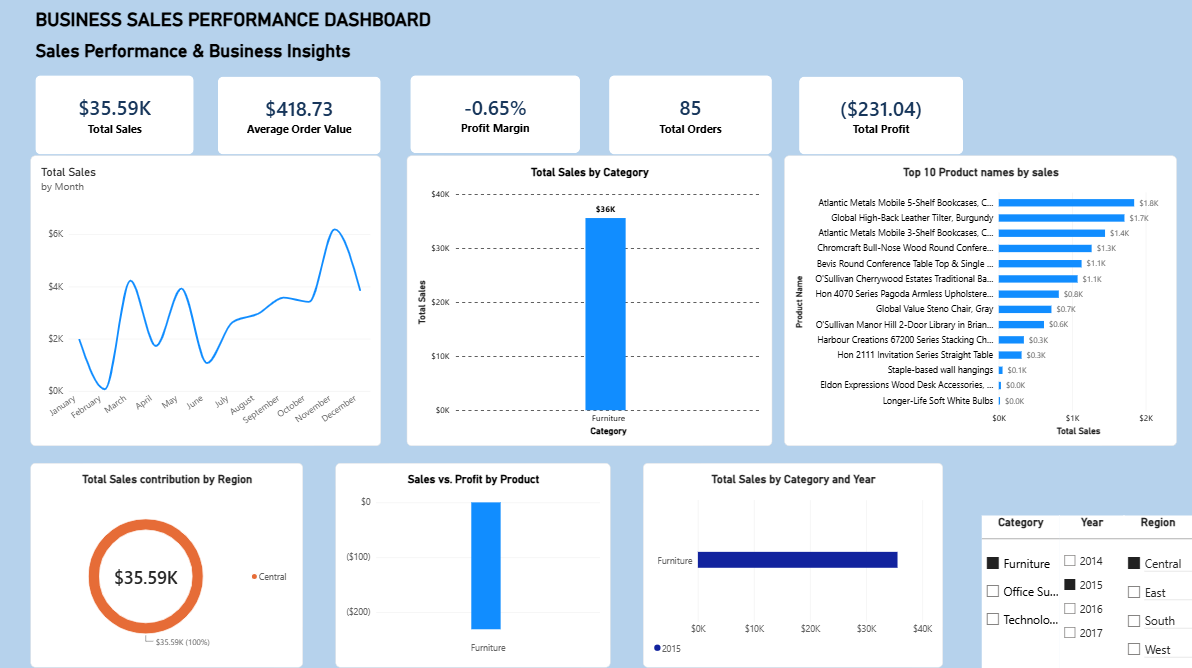

The dashboard page shown, as its layout file describes it:
{"tool":"powerbi","page":{"name":"Page 1","canvas":[1920,1080],"ordinal":0},"visuals":[{"type":"textbox","title":"BUSINESS SALES PERFORMANCE DASHBOARD","box":[68,24,1022,110],"z":0},{"type":"cardVisual","fields":{"Data":["DateTable.Total Revenue"]},"box":[46,156,254,102],"z":1000},{"type":"cardVisual","fields":{"Data":["DateTable.Average Order Value"]},"box":[348,156,260,102],"z":2000},{"type":"cardVisual","fields":{"Data":["DateTable.Profit Margin"]},"box":[662,156,272,102],"z":3000},{"type":"cardVisual","fields":{"Data":["DateTable.Total Orders"]},"box":[986,156,260,102],"z":4000},{"type":"cardVisual","fields":{"Data":["DateTable.Total Profit"]},"box":[1280,156,262,102],"z":5000},{"type":"columnChart","title":"Total Sales by Category","fields":{"Category":["Superstores_cleaned.Category"],"Y":["DateTable.Total Sales"]},"box":[46,722,562,358],"z":6000},{"type":"donutChart","title":"Total Sales contribution by Region","fields":{"Category":["Superstores_cleaned.Region"],"Y":["DateTable.Total Sales"]},"box":[594,282,436,424],"z":7000},{"type":"slicer","title":"Year","fields":{"Values":["DateTable.Year"]},"box":[1450,18,184,118],"z":8000},{"type":"slicer","title":"Category","fields":{"Values":["Superstores_cleaned.Category"]},"box":[1228,18,184,118],"z":9000},{"type":"slicer","title":"Region","fields":{"Values":["Superstores_cleaned.Region"]},"box":[1680,18,186,116],"z":10000},{"type":"lineChart","title":"Total Sales by Over Time","fields":{"Category":["DateTable.Month"],"Y":["DateTable.Total Sales"]},"box":[20,282,560,424],"z":11000},{"type":"clusteredBarChart","title":"Top 10 Product names by sales","fields":{"Category":["Superstores_cleaned.Product Name"],"Y":["DateTable.Total Sales"]},"box":[1048,282,844,424],"z":12000},{"type":"columnChart","title":"Total Profit by Category","fields":{"Category":["Superstores_cleaned.Category"],"Y":["DateTable.Total Profit"]},"box":[672,722,576,358],"z":12001},{"type":"barChart","fields":{"Category":["Superstores_cleaned.Category"],"Series":["DateTable.Year"],"Y":["DateTable.Total Sales"]},"box":[1280,722,612,358],"z":12002}]}

Visuals, with their boxes in screenshot pixels (x1, y1, x2, y2), scaled from the page's 1920x1080 canvas onto the 1192x668 screenshot:
"BUSINESS SALES PERFORMANCE DASHBOARD" textbox: (42, 15, 677, 83)
cardVisual - DateTable.Total Revenue: (29, 96, 186, 160)
cardVisual - DateTable.Average Order Value: (216, 96, 377, 160)
cardVisual - DateTable.Profit Margin: (411, 96, 580, 160)
cardVisual - DateTable.Total Orders: (612, 96, 774, 160)
cardVisual - DateTable.Total Profit: (795, 96, 957, 160)
"Total Sales by Category" columnChart: (29, 447, 377, 667)
"Total Sales contribution by Region" donutChart: (369, 174, 639, 437)
"Year" slicer: (900, 11, 1014, 84)
"Category" slicer: (762, 11, 877, 84)
"Region" slicer: (1043, 11, 1158, 83)
"Total Sales by Over Time" lineChart: (12, 174, 360, 437)
"Top 10 Product names by sales" clusteredBarChart: (651, 174, 1175, 437)
"Total Profit by Category" columnChart: (417, 447, 775, 667)
barChart - Superstores_cleaned.Category x DateTable.Year: (795, 447, 1175, 667)
